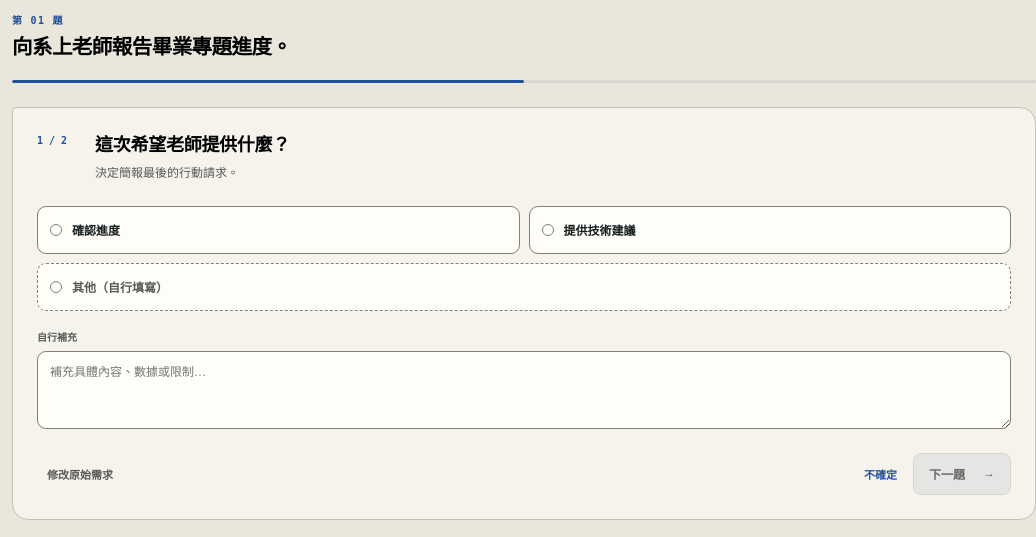
Test case: 不確定也是明確答案，不會讓使用者卡住
Expected: the button "下一題 →" is disabled, [913,452,1011,494]
Click the button "不確定". click: (880, 474)
box: [854,456,907,490]
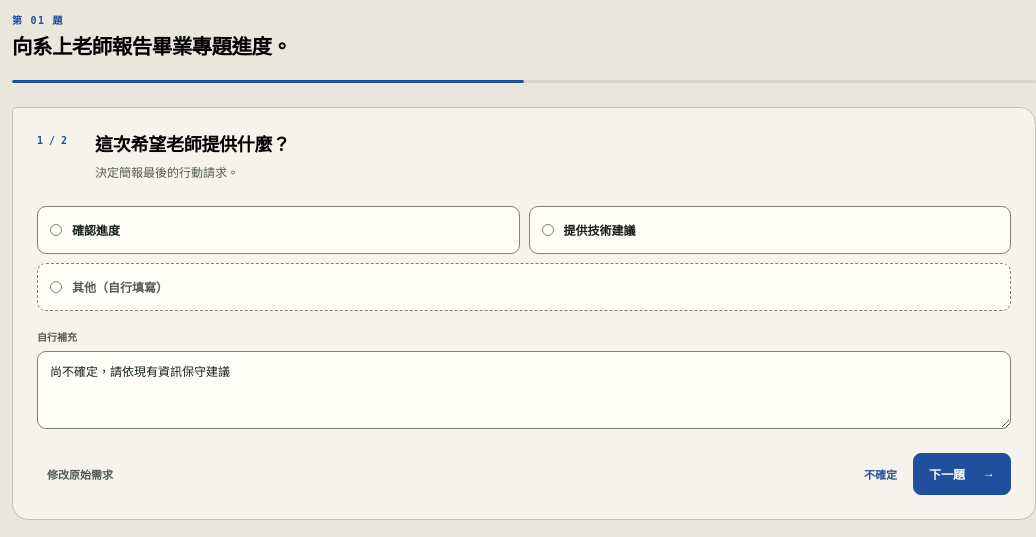
Now the button "下一題 →" is enabled, box [913,452,1011,494]
Now the text box named "自訂回答" holds "尚不確定，請依現有資訊保守建議", box [37,350,1011,428]
